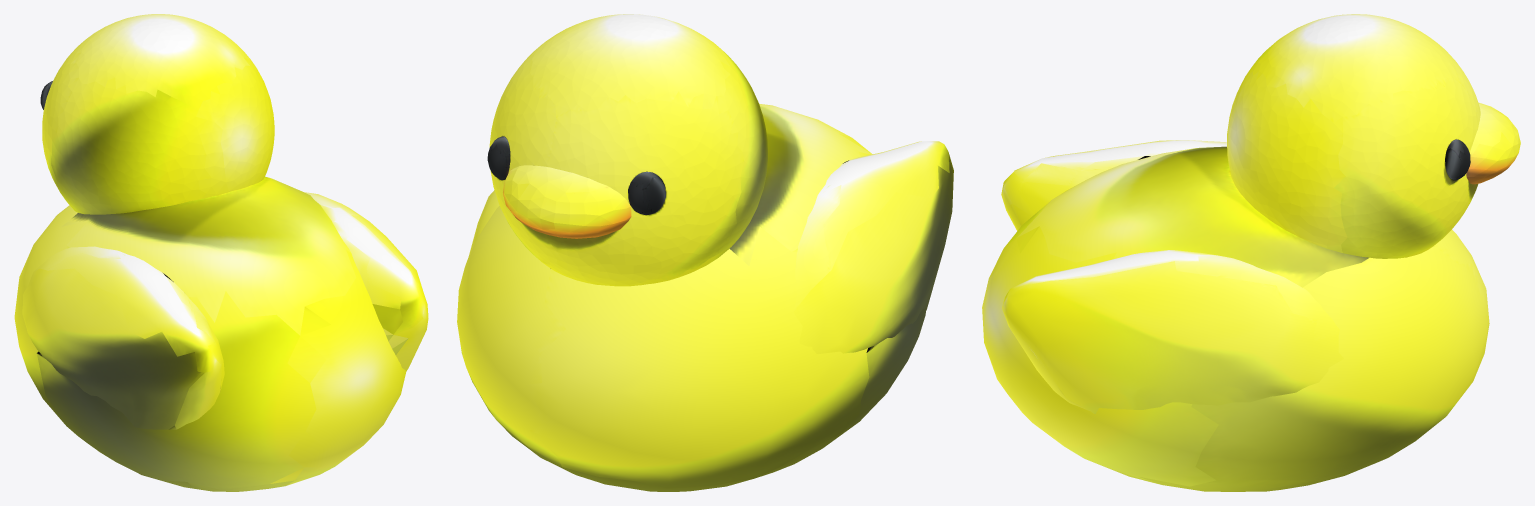
File: duck.glb
3 views of the same model, side by side, from view 1: azimuth 30°, elevation 25°; view 2: azimuth 150°, elevation 25°; view 3: azimuth 270°, elevation 25° (orthographic). The views are drawn at different scales.
Visible parts, largest first — view 1: body, head, wings; view 2: body, head, wings, beak, eyes; view 3: body, head, wings, beak, eyes.
Part boxes in pixels (x1,y1,x2,y2): body: (14, 176, 405, 491); head: (42, 14, 274, 214); wings: (22, 192, 428, 429); body: (457, 104, 926, 491); head: (489, 14, 767, 286); wings: (469, 141, 953, 353); beak: (503, 165, 631, 238); eyes: (487, 136, 665, 215); body: (982, 146, 1489, 491); head: (1227, 14, 1480, 258); wings: (1001, 140, 1343, 413); beak: (1466, 102, 1520, 184); eyes: (1445, 139, 1470, 180).
Bounding box in the file's own units: 6.33 × 7.44 × 8.21.
3 materials, 3 textured.
